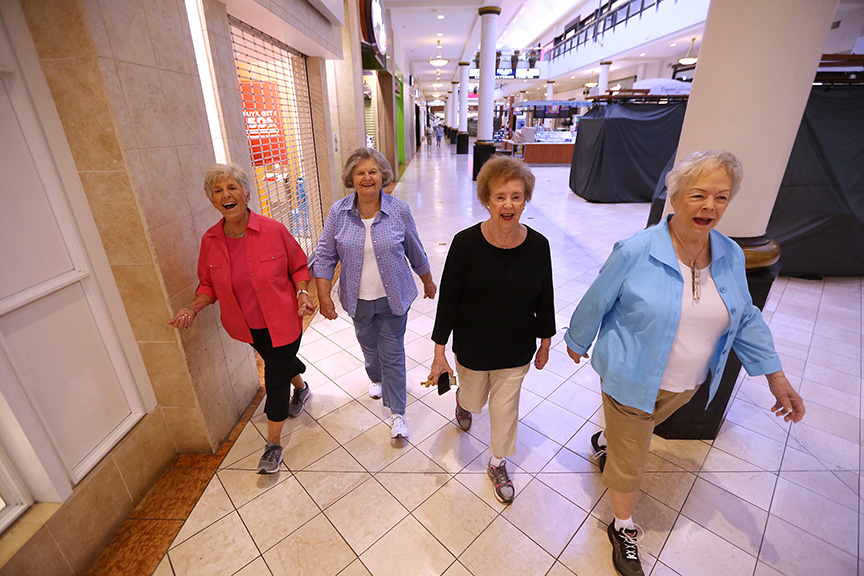Person: (575, 167, 805, 576), (165, 171, 312, 451), (315, 154, 428, 434), (448, 171, 542, 477)
